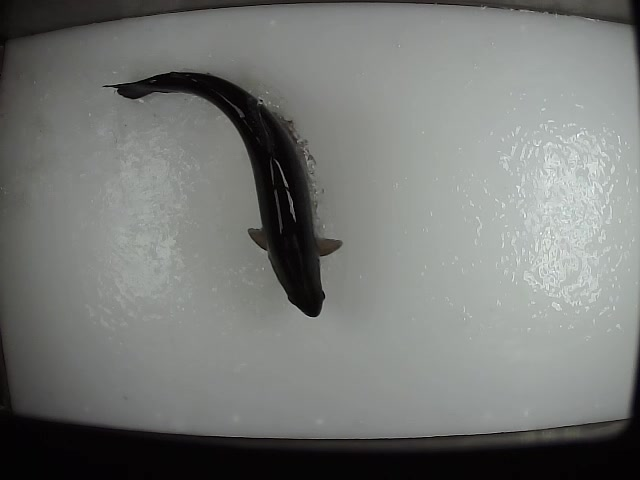fish: (99, 67, 345, 320)
